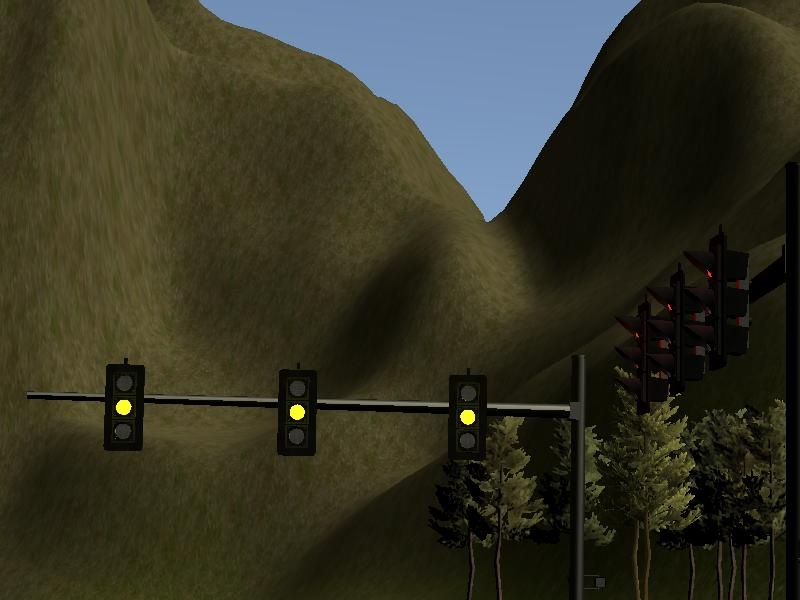YELLOW: (100, 361, 144, 453), (274, 365, 318, 457), (444, 371, 488, 463)
